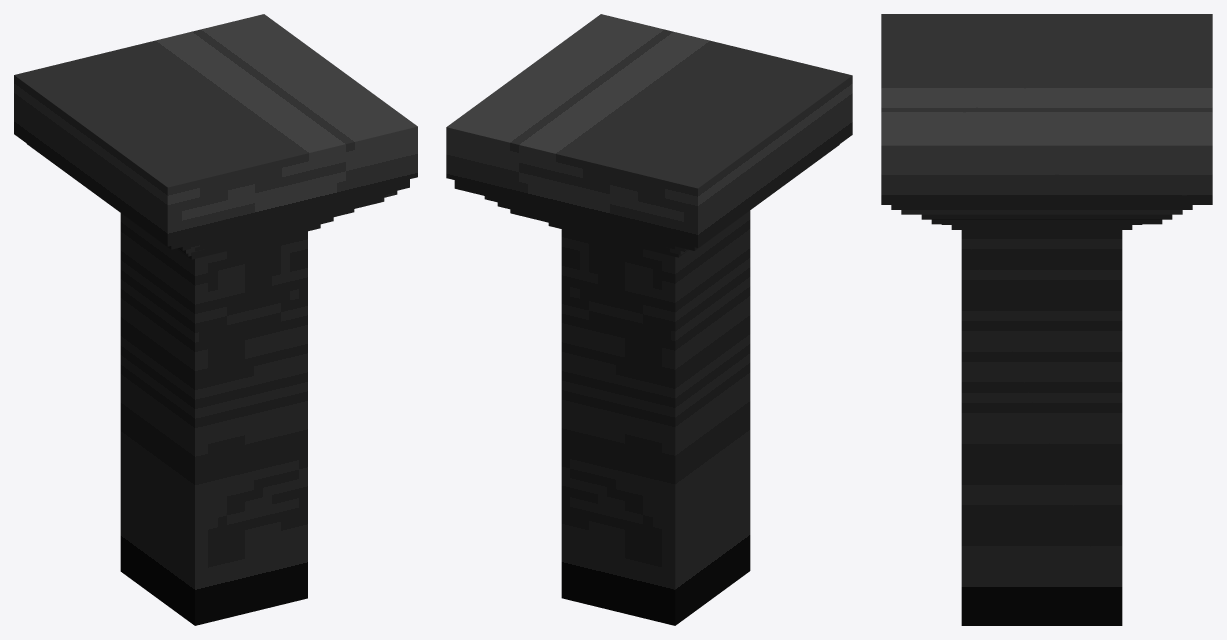
File: short  pillar.glb
The picture shows the model from 3 angles, left to right: view 1: azimuth 30°, elevation 25°; view 2: azimuth 150°, elevation 25°; view 3: azimuth 270°, elevation 25°; orthographic projection. The views are drawn at different scales.
Parts seen in each view (by area): view 1: single pillar; view 2: single pillar; view 3: single pillar.
Boxes of the visible parts, x1=… form: single pillar: x1=14, y1=14, x2=417, y2=625; single pillar: x1=446, y1=14, x2=852, y2=625; single pillar: x1=881, y1=14, x2=1212, y2=625.
Bounding box in the file's own units: 0.156 × 0.2869 × 0.1661.
1 material, 1 textured.
